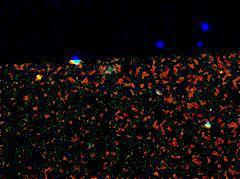star: (24, 57, 54, 87)
